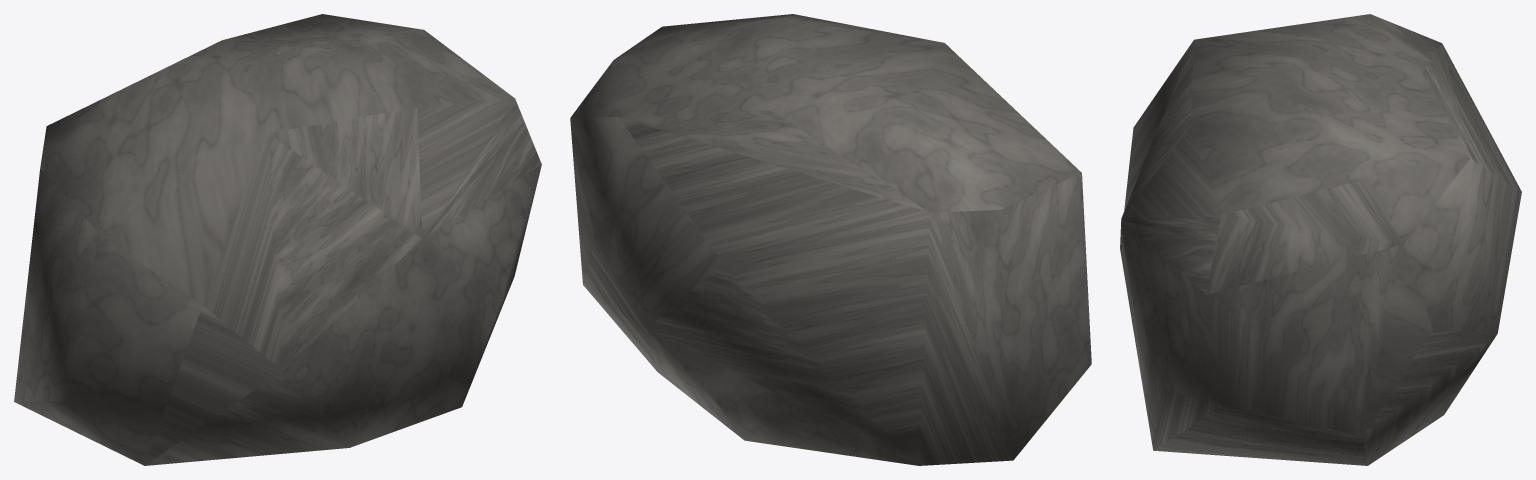
The model's file is SplitBoulder_Hull.fbx.
The picture shows the model from 3 angles, left to right: view 1: azimuth 30°, elevation 25°; view 2: azimuth 150°, elevation 25°; view 3: azimuth 270°, elevation 25°; orthographic projection. The views are drawn at different scales.
Visible parts, largest first — view 1: SplitBoulder_Hull; view 2: SplitBoulder_Hull; view 3: SplitBoulder_Hull.
Boxes of the visible parts, bbox=[...] form: SplitBoulder_Hull: bbox=[14, 14, 541, 465]; SplitBoulder_Hull: bbox=[570, 14, 1091, 465]; SplitBoulder_Hull: bbox=[1120, 14, 1521, 465].
Size of the model in its own units: 3.6 by 2.58 by 2.61.
